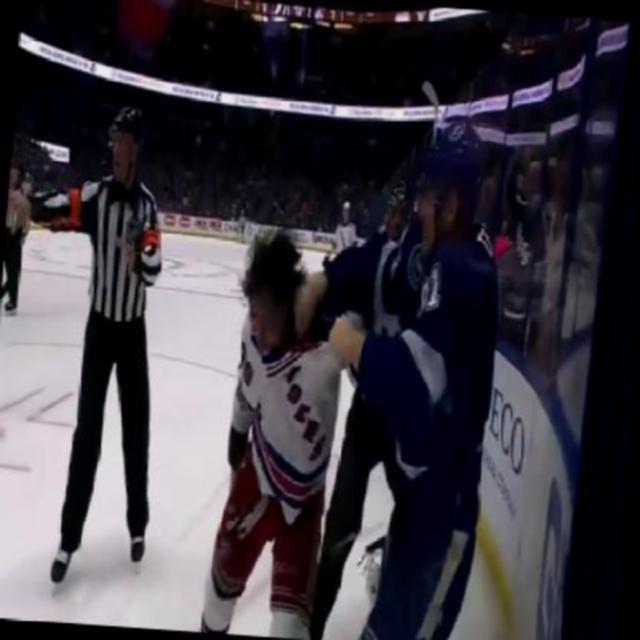fight: (212, 100, 512, 638)
non-fight: (37, 100, 183, 588)
